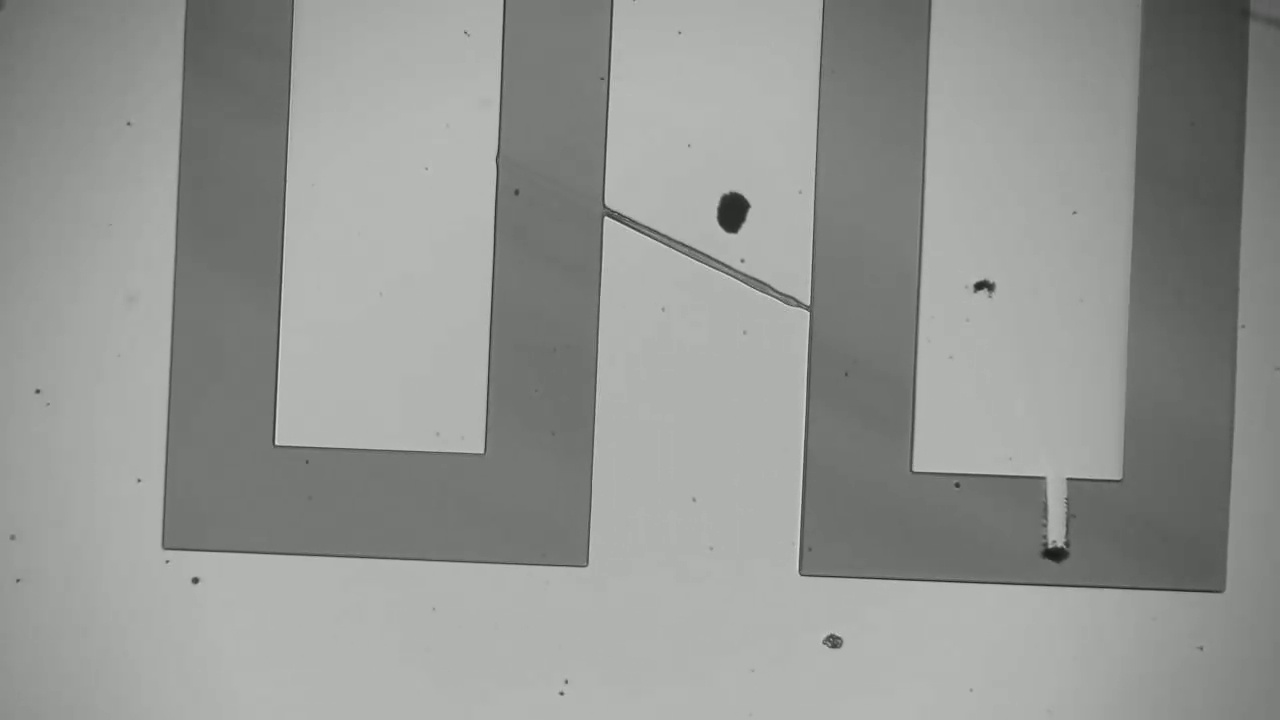Short_circuit: (1015, 455, 1091, 613)
